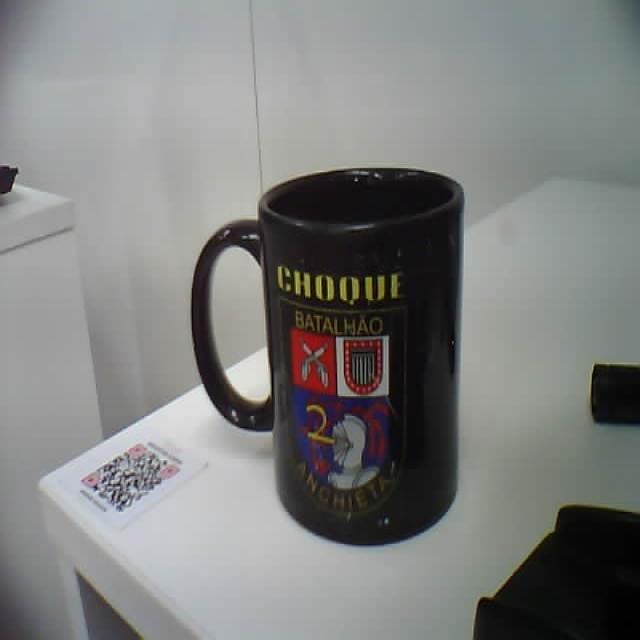caneca: (192, 168, 463, 543)
